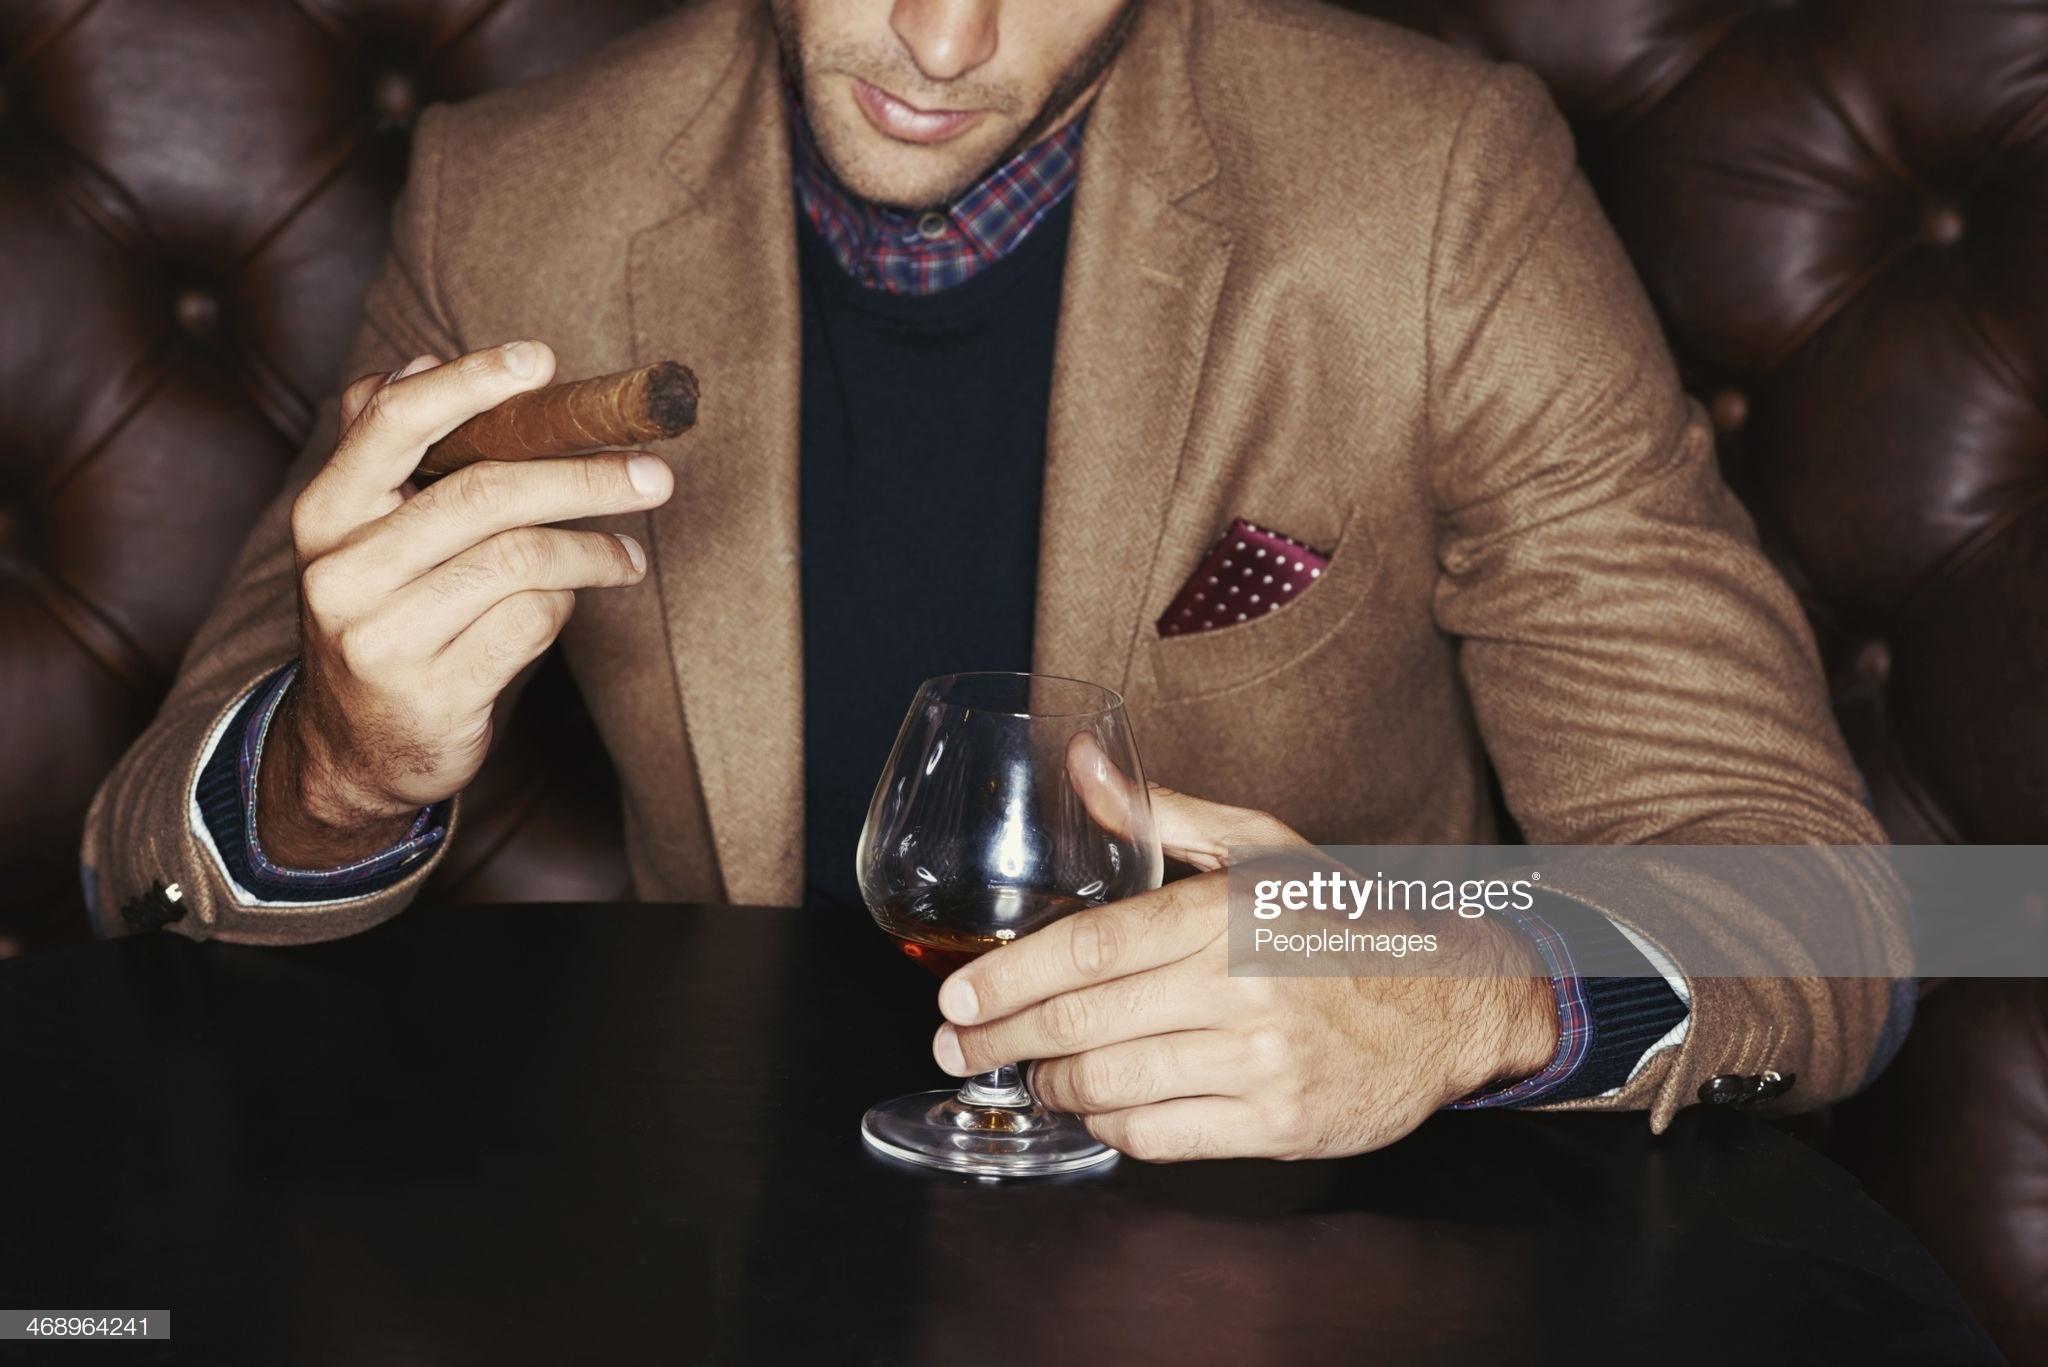whiskey: (831, 671, 1165, 1172)
